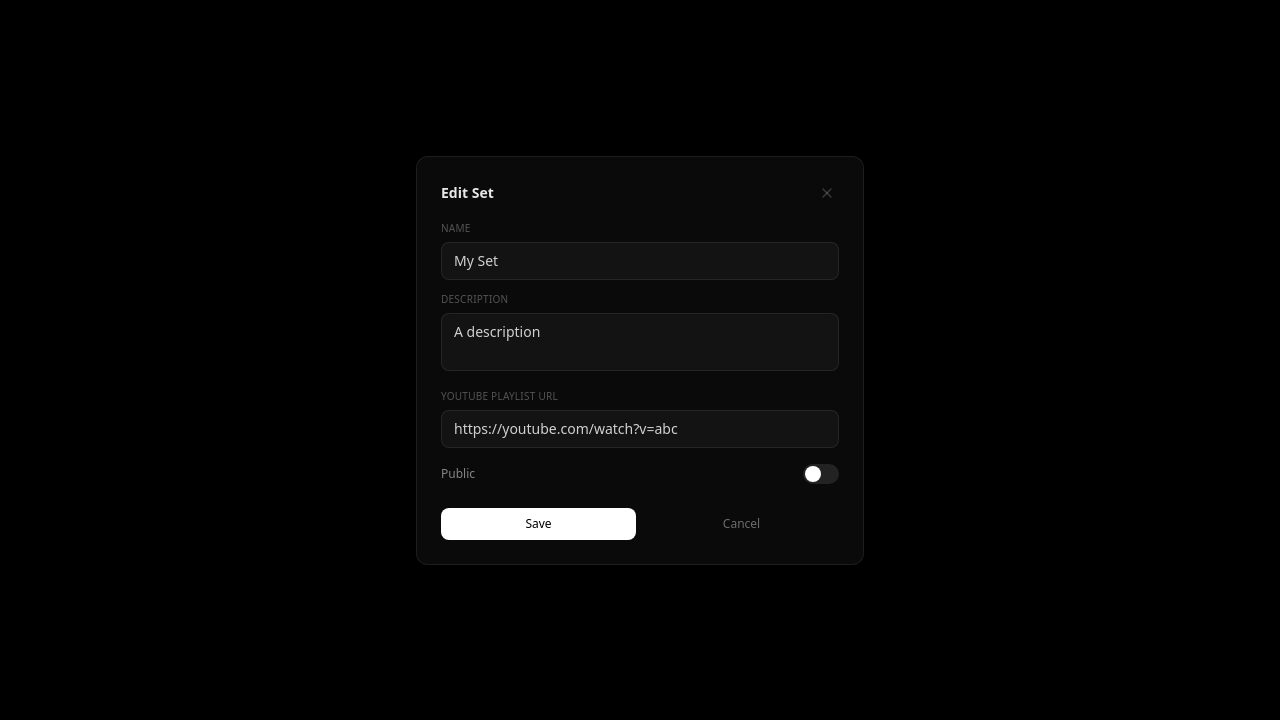
SetEditModal › shows error for invalid YouTube playlist URL
Click the button "Save" at [538, 524], box [441,508,636,540]
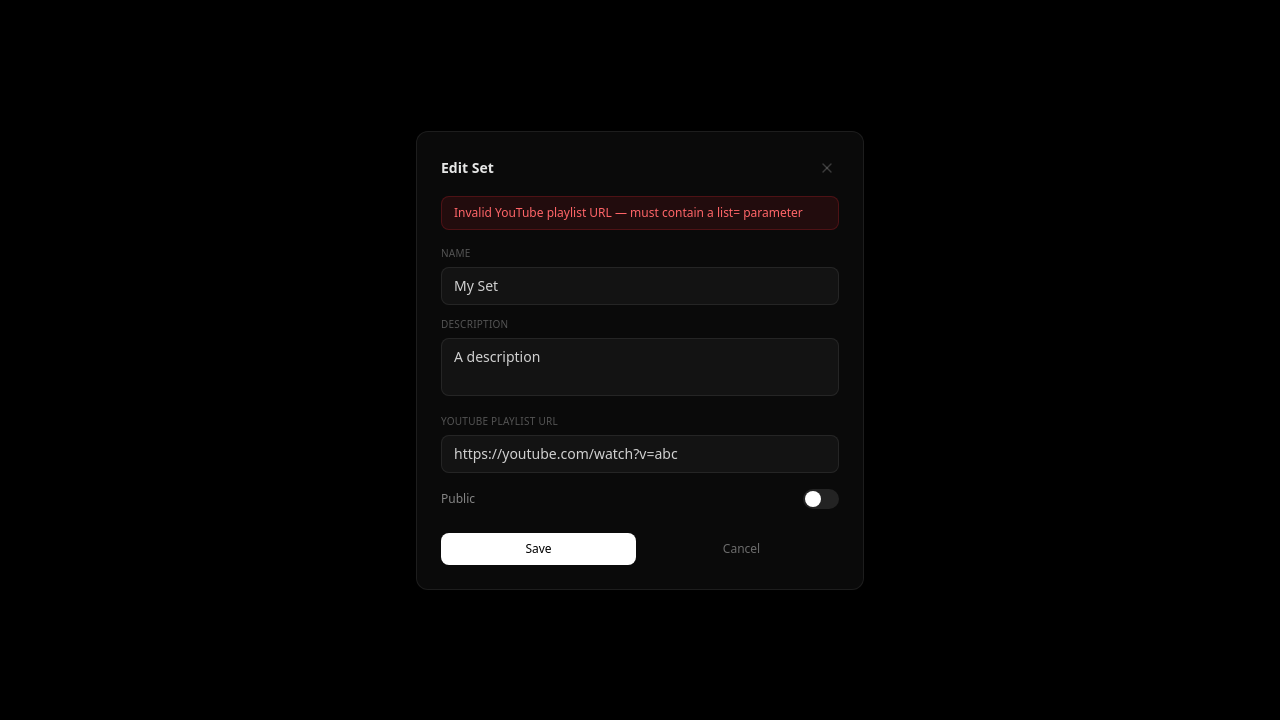
Now the text "Invalid YouTube playlist URL — must contain a list= parameter" is shown, box [441,196,839,230]
